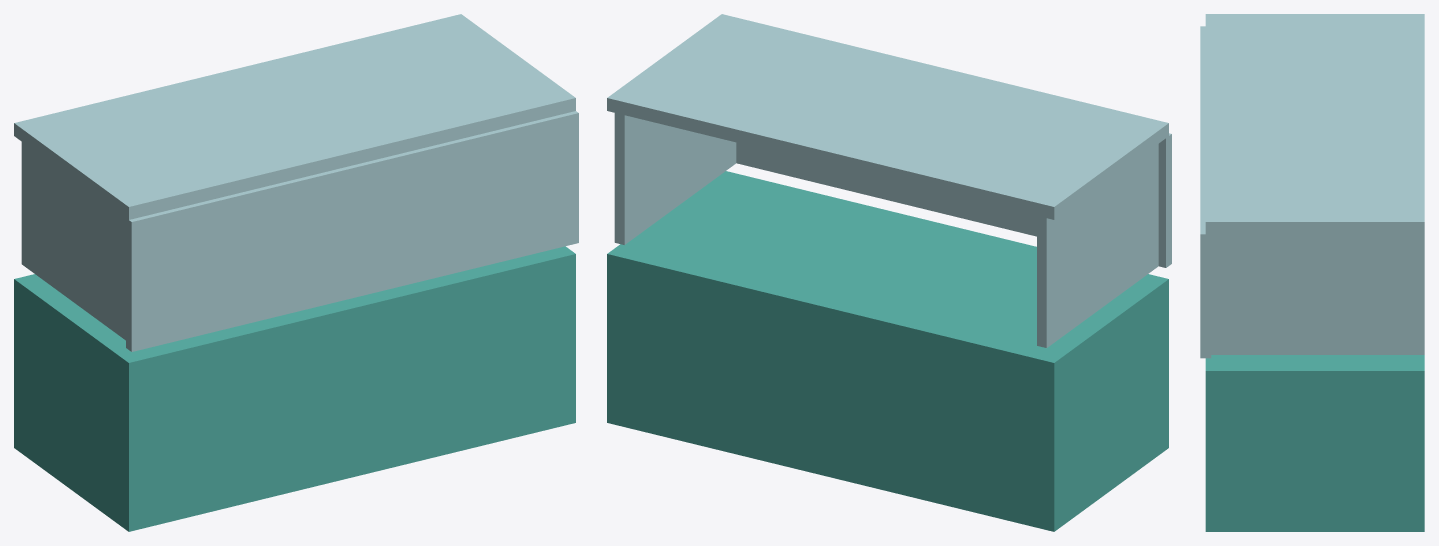
Rendered from supermarket-operations-deli-display-case-68b1ac69__26800.glb.
3 renders of one model, left to right at view 1: azimuth 30°, elevation 25°; view 2: azimuth 150°, elevation 25°; view 3: azimuth 270°, elevation 25°, orthographic. The views are drawn at different scales.
Visible parts, largest first — view 1: deli-display-case; view 2: deli-display-case; view 3: deli-display-case.
Part boxes in pixels (<box>): deli-display-case: <box>14,14,578,531</box>; deli-display-case: <box>607,14,1171,531</box>; deli-display-case: <box>1200,14,1424,531</box>.
Bounding box in the file's own units: 1.8 × 1.25 × 0.8199.
